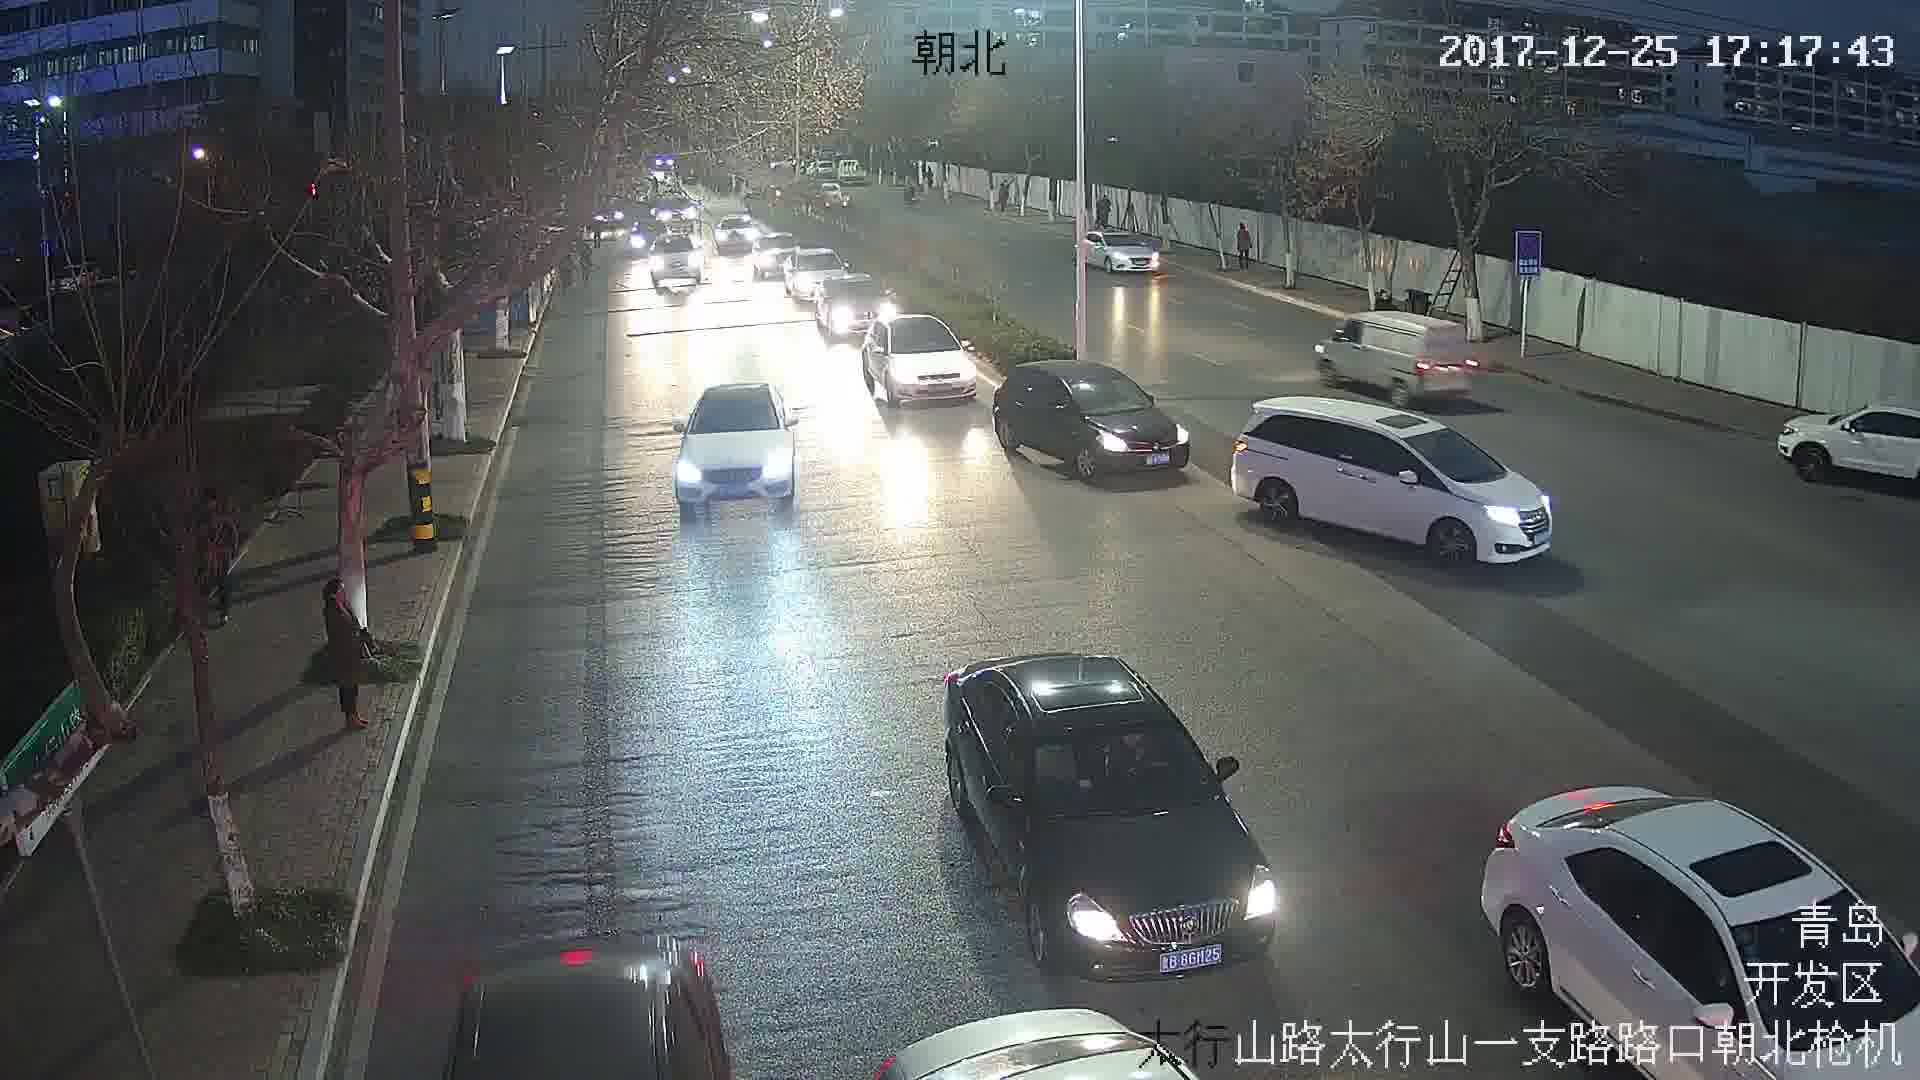car: (916, 666, 1278, 973), (1239, 395, 1555, 566), (1002, 363, 1188, 487), (664, 380, 795, 510), (1314, 307, 1477, 403), (868, 316, 975, 412), (1080, 223, 1168, 281), (817, 281, 888, 338), (649, 238, 706, 295), (785, 249, 843, 295)
person: (323, 587, 373, 727), (1235, 223, 1259, 267)
